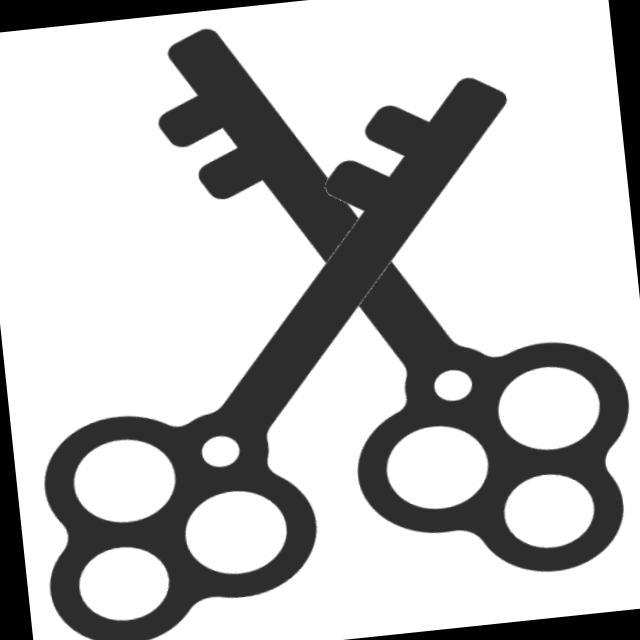key: (127, 1, 640, 628), (33, 30, 536, 640)
